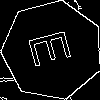E: (27, 25, 81, 70)
